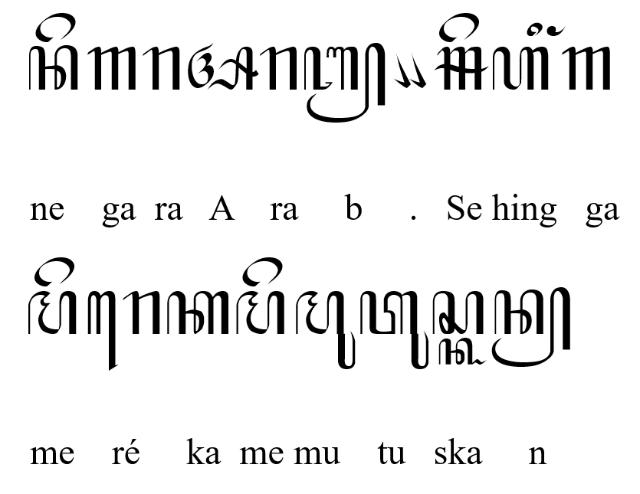-b: (304, 42, 384, 124)
-n: (491, 285, 571, 367)
A: (187, 42, 259, 90)
S: (433, 46, 489, 90)
_k: (438, 338, 488, 366)
e: (438, 11, 480, 43), (242, 256, 282, 288), (34, 257, 76, 287), (35, 12, 75, 42)
e1: (88, 291, 119, 371)
g: (87, 46, 137, 90), (562, 46, 610, 90)
h: (492, 46, 550, 90)
i: (527, 22, 543, 38)
k: (166, 290, 230, 336)
kom: (393, 53, 411, 89), (408, 52, 426, 88)
m: (27, 290, 77, 336), (236, 290, 286, 336)
mu: (296, 290, 356, 370)
n: (29, 45, 79, 91)
ng: (546, 24, 568, 38)
r: (142, 47, 182, 91), (260, 45, 298, 91), (122, 290, 160, 336)
s: (432, 290, 484, 336)
tu: (359, 290, 428, 370)
